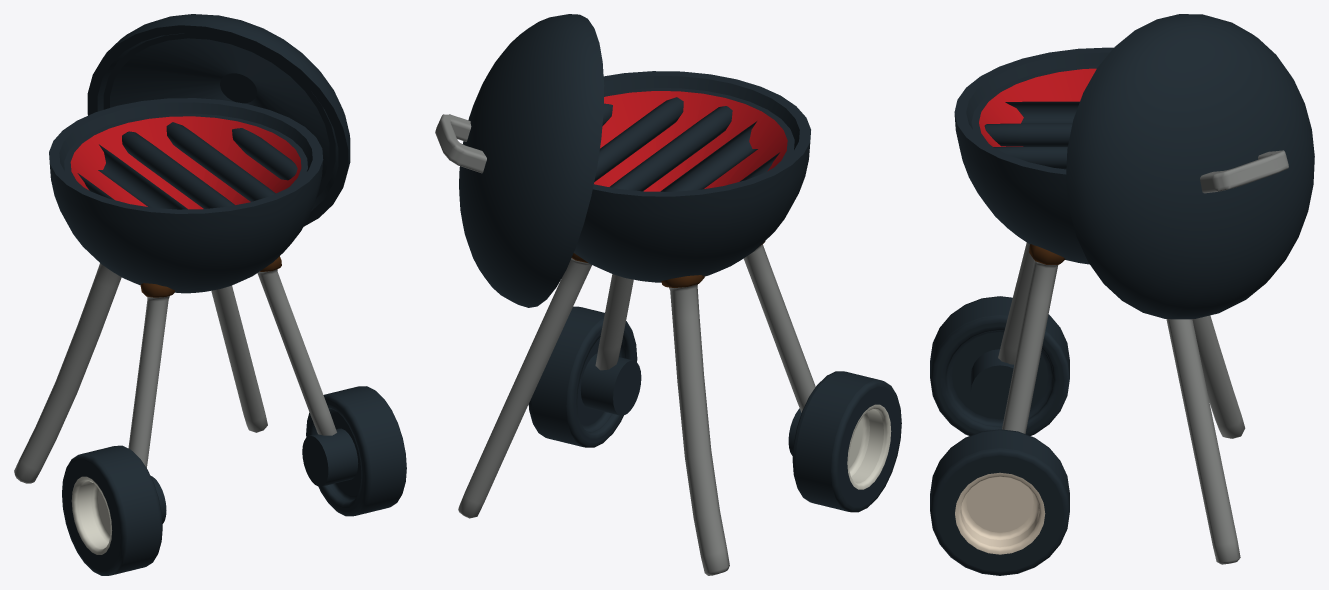
File: SM_Grill.fbx
The picture shows the model from 3 angles, left to right: view 1: azimuth 30°, elevation 25°; view 2: azimuth 150°, elevation 25°; view 3: azimuth 270°, elevation 25°; orthographic projection. The views are drawn at different scales.
Visible parts, largest first — view 1: Grill.001; view 2: Grill.001; view 3: Grill.001.
Part boxes in pixels (x1,y1,x2,y2): Grill.001: (14,14,406,575); Grill.001: (435,14,901,575); Grill.001: (930,14,1314,575).
Bounding box in the file's own units: 128 × 182 × 126.
